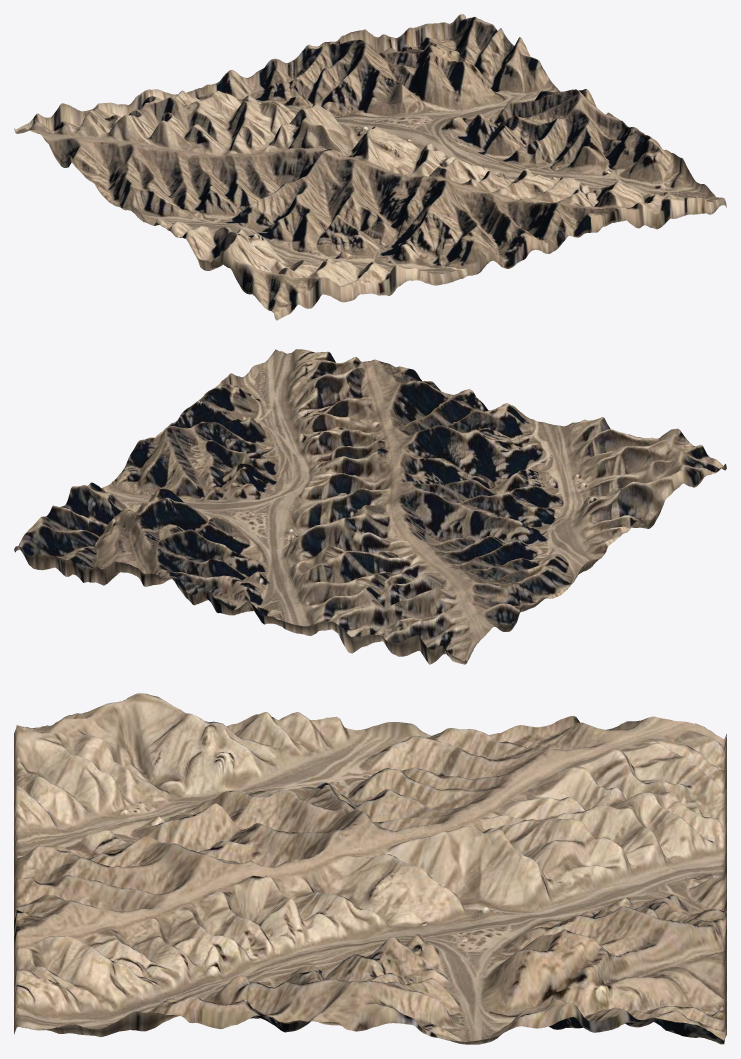
Rendered from terrain_game.glb.
3 views of the same model, one above another, from view 1: azimuth 30°, elevation 25°; view 2: azimuth 150°, elevation 25°; view 3: azimuth 270°, elevation 25° (orthographic). The views are drawn at different scales.
Parts seen in each view (by area): view 1: Grid; view 2: Grid; view 3: Grid.
Boxes of the visible parts, x1,y1,x2,y2 form: Grid: [14, 14, 726, 320]; Grid: [14, 349, 726, 664]; Grid: [14, 693, 726, 1044].
Size of the model in its own units: 10 by 1.14 by 10.
Materials: 1 (1 with a texture image).
